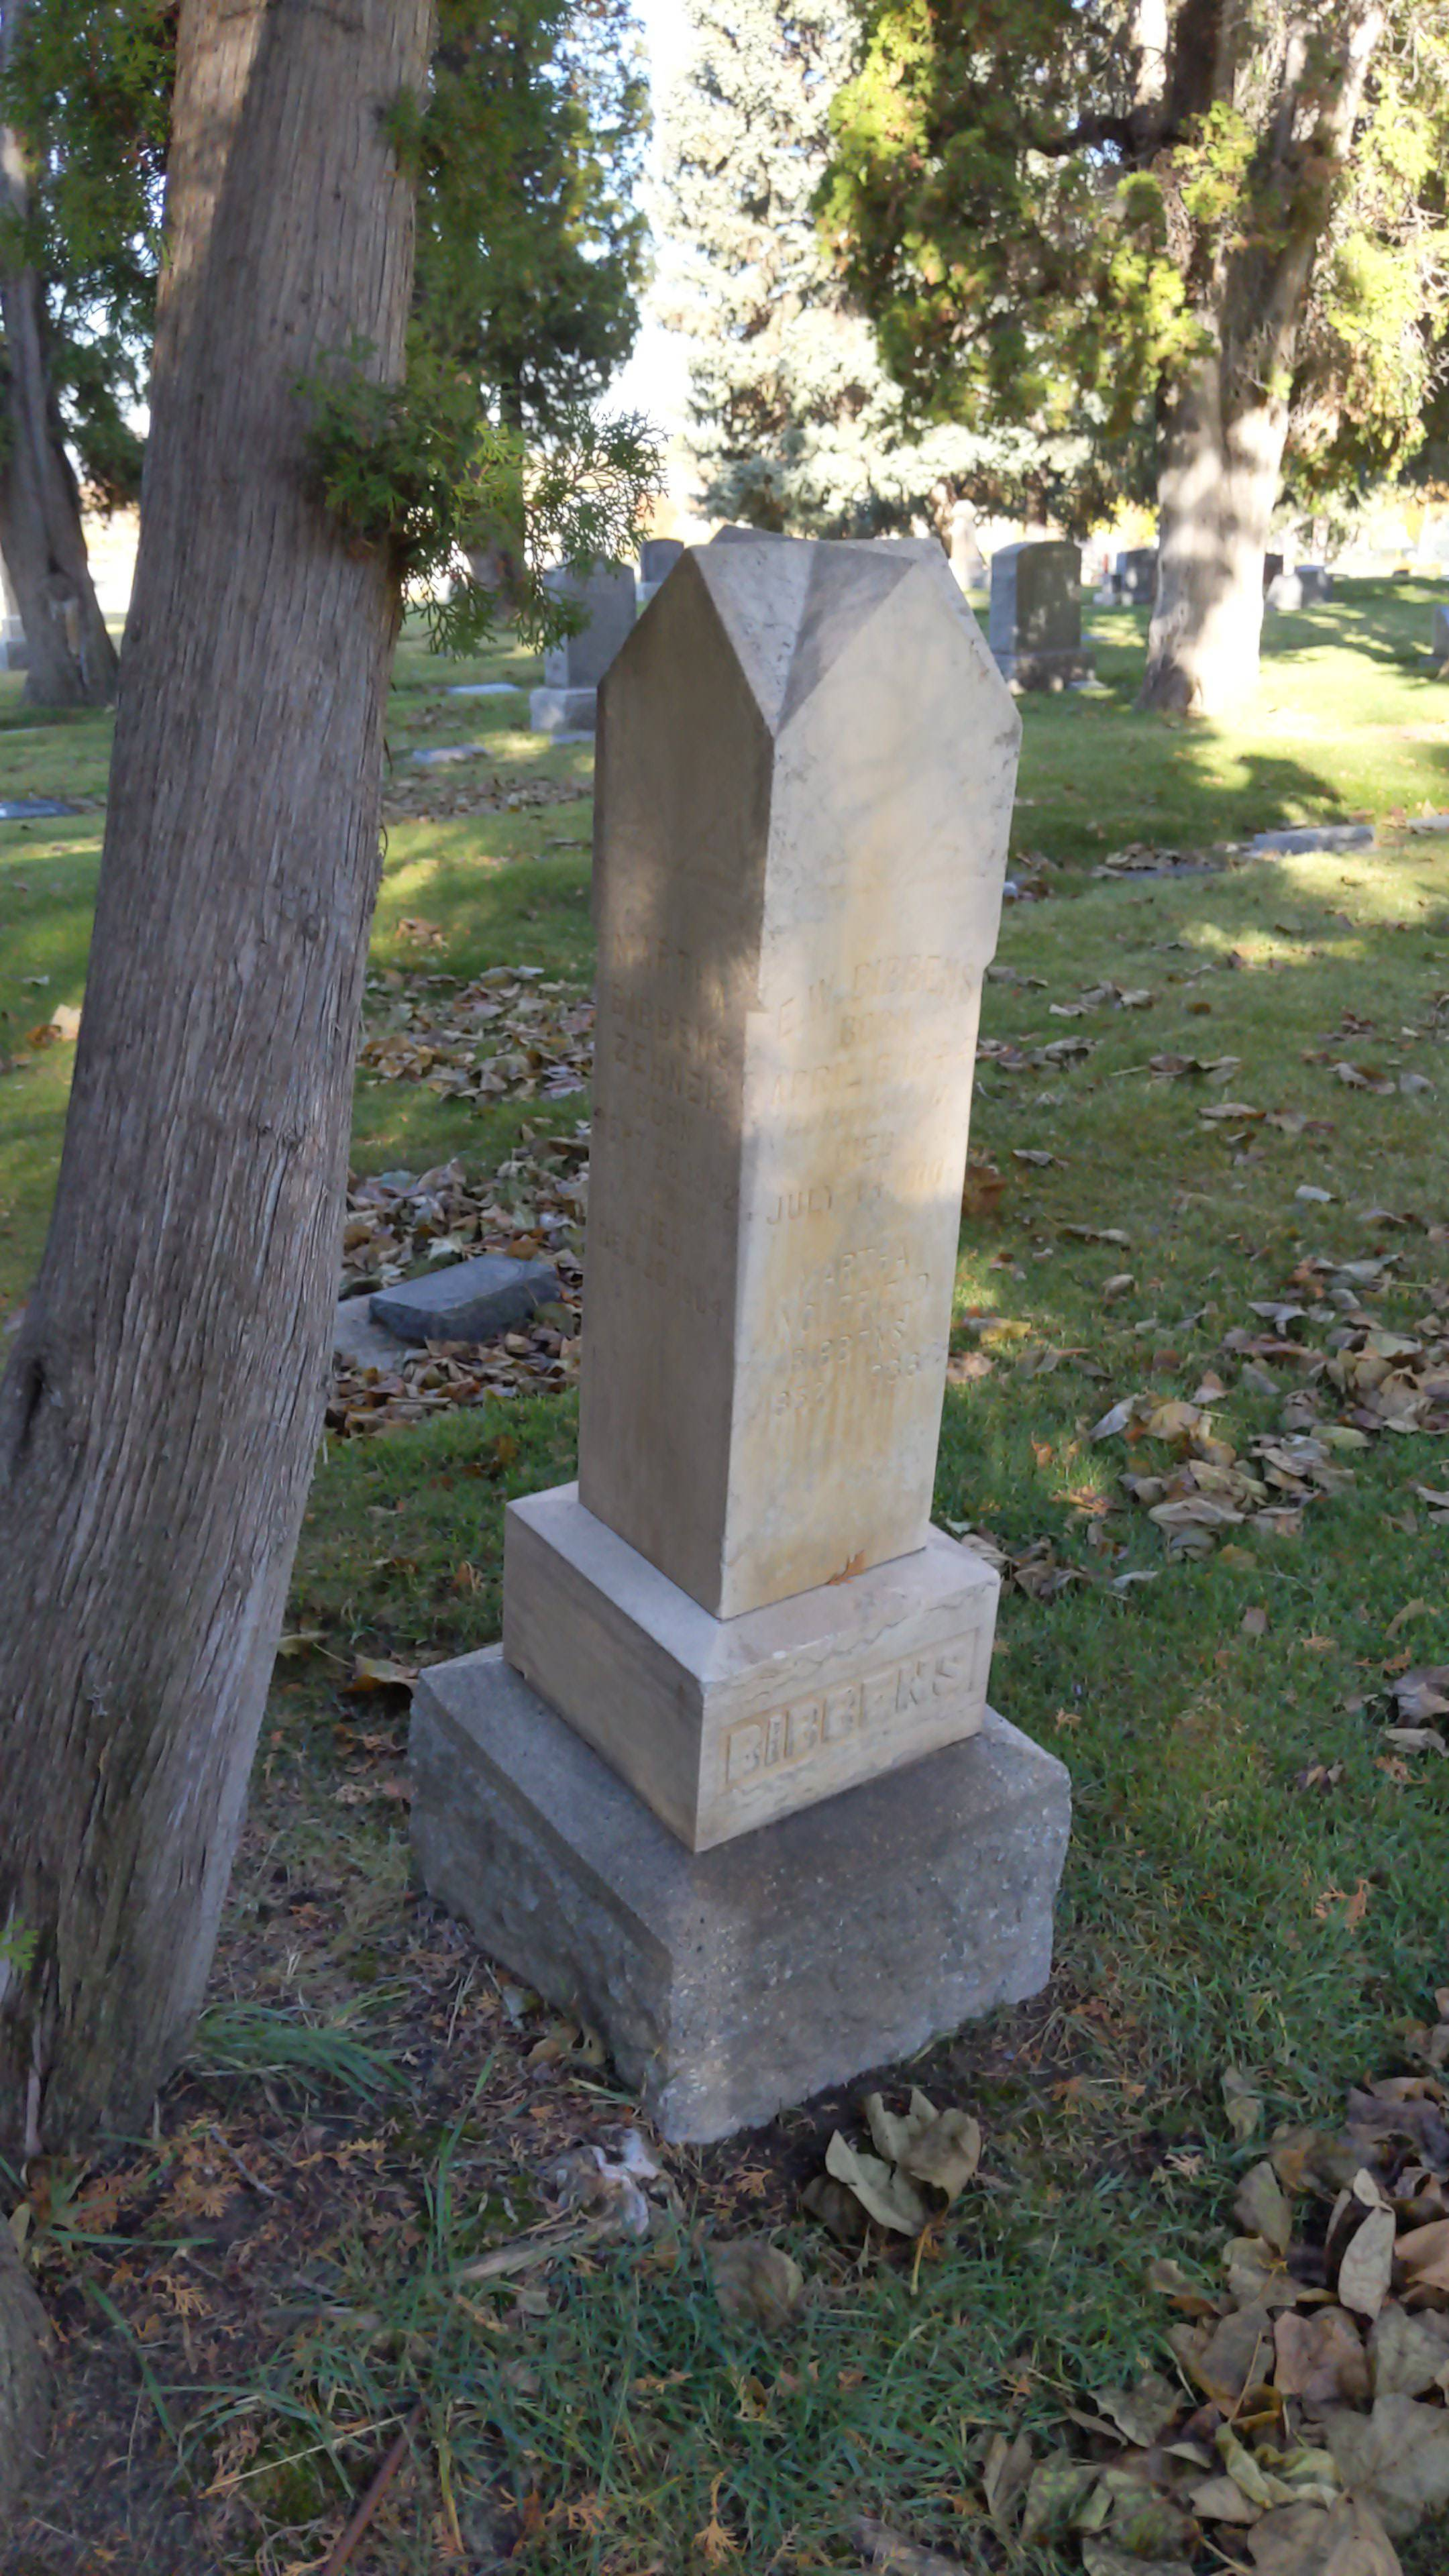obelisk: (513, 533, 993, 1847)
